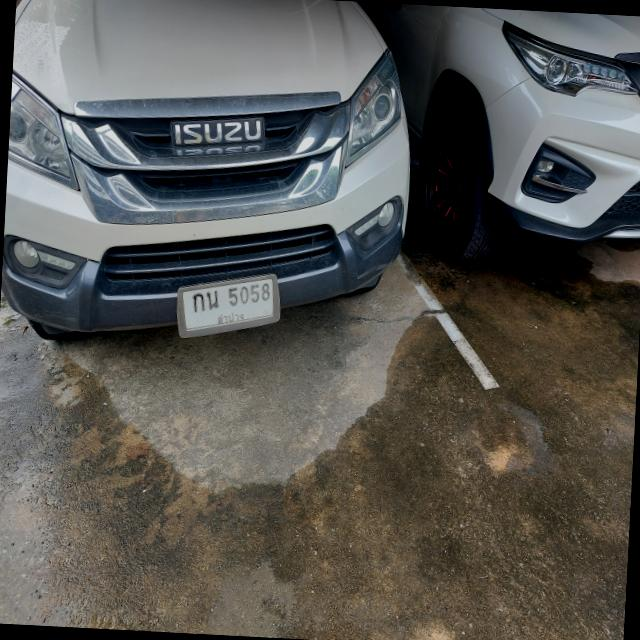license_plate: (174, 266, 285, 346)
